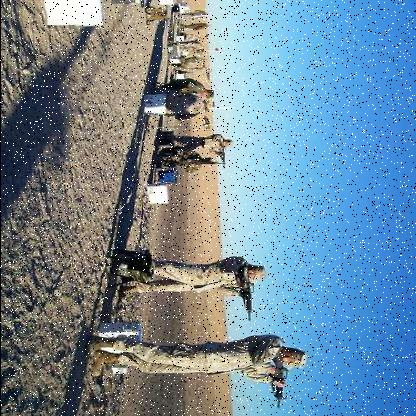rifle: (223, 266, 258, 326)
